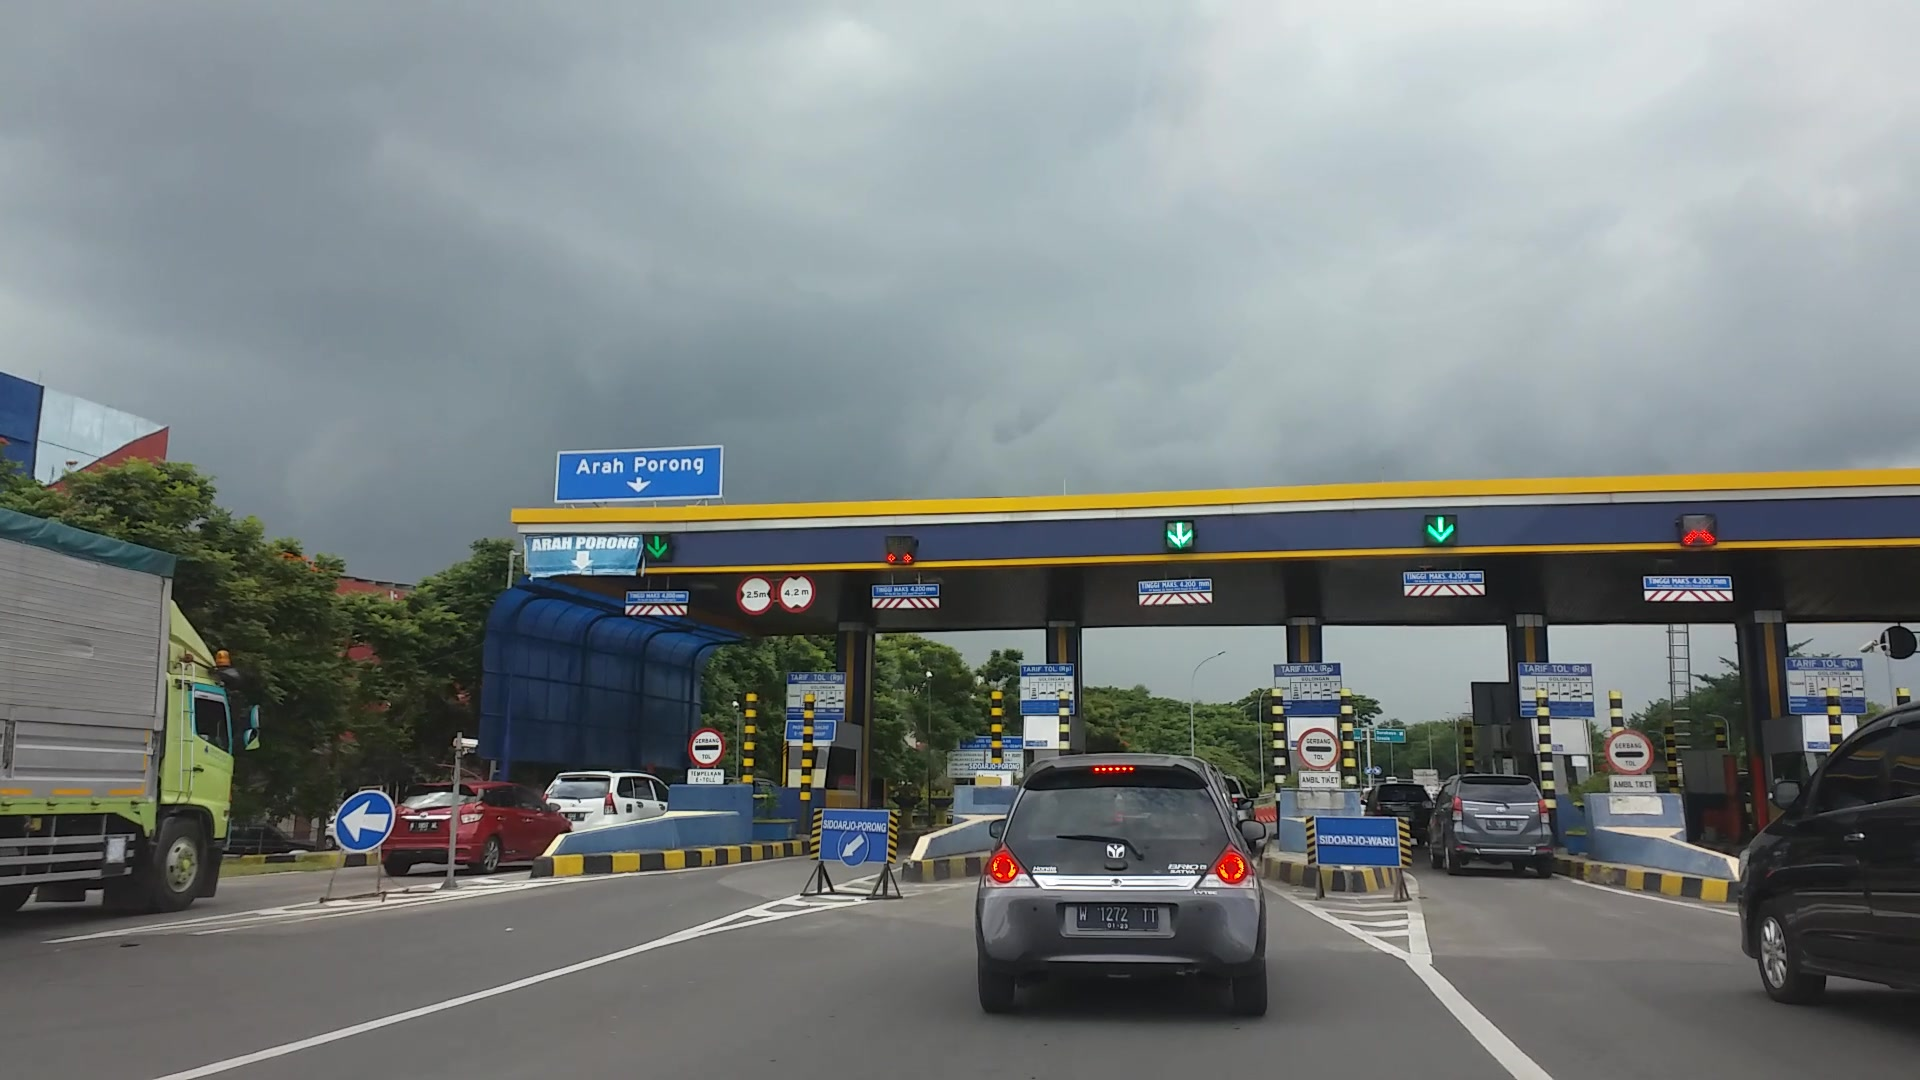plate_positive: (1076, 903, 1159, 932)
